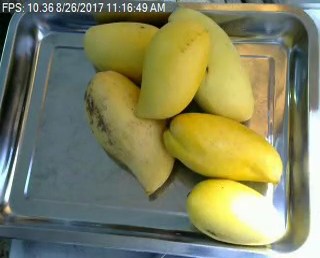Mango: (84, 69, 178, 193), (168, 7, 254, 121), (163, 113, 281, 182), (135, 20, 209, 120), (186, 178, 286, 244), (83, 21, 161, 83)
